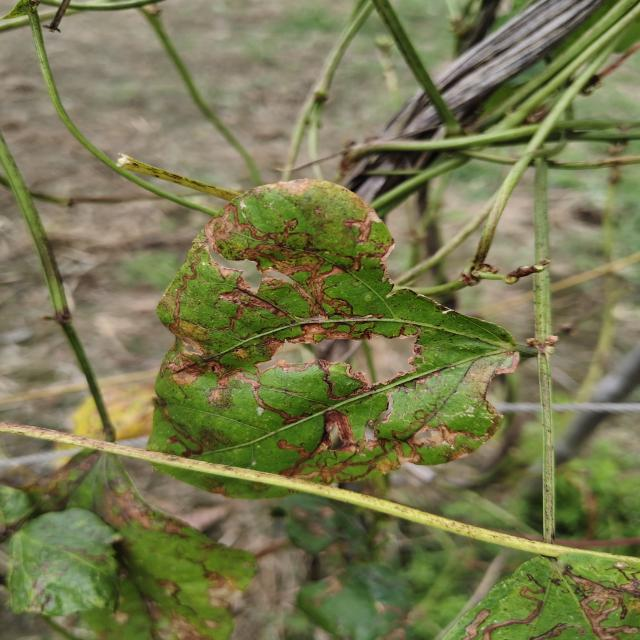leaf-moderate: (147, 179, 519, 485)
sitaw-healthy: (533, 159, 558, 542)
